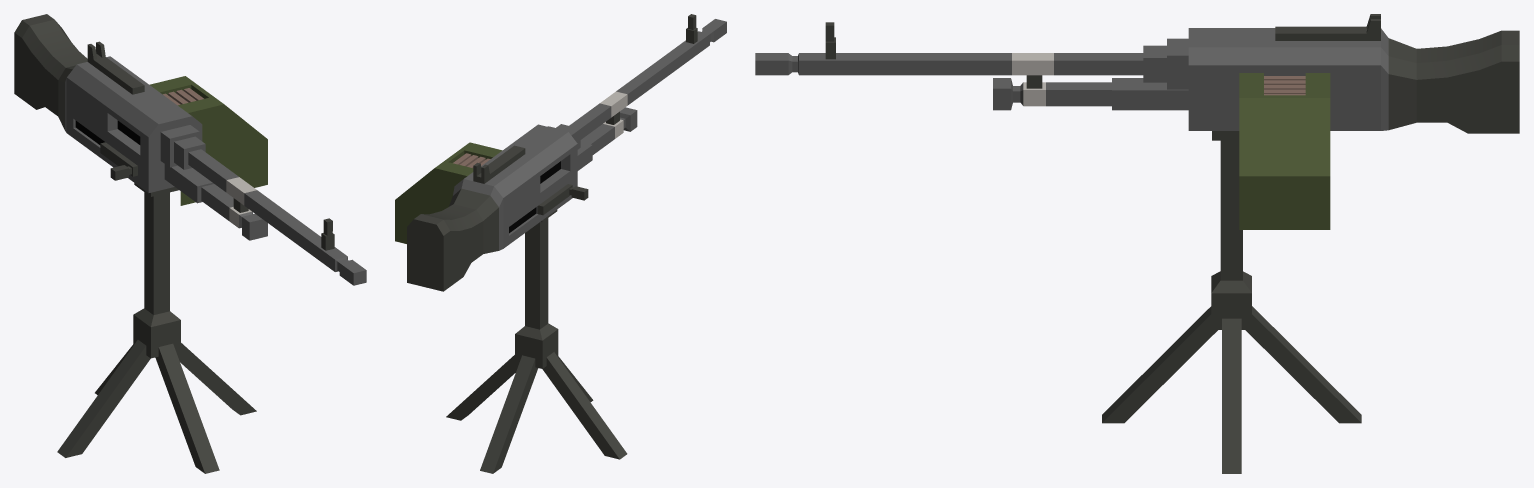
File: sm_gun.fbx
3 views of the same model, side by side, from view 1: azimuth 30°, elevation 25°; view 2: azimuth 150°, elevation 25°; view 3: azimuth 270°, elevation 25° (orthographic). The views are drawn at different scales.
Parts seen in each view (by area): view 1: sm_gun; view 2: sm_gun; view 3: sm_gun.
Part boxes in pixels (left/top/right/bottom): sm_gun: left=14, top=14, right=366, bottom=473; sm_gun: left=395, top=14, right=726, bottom=473; sm_gun: left=755, top=14, right=1519, bottom=473.
Size of the model in its own units: 83.5 by 130 by 225.
